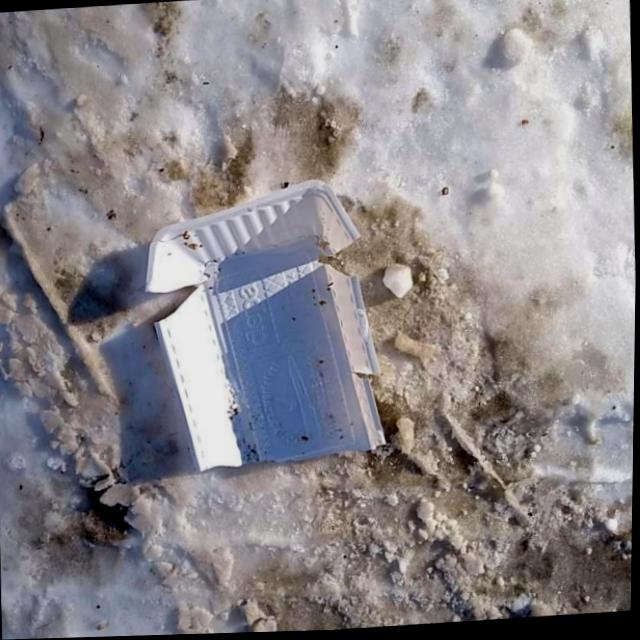Plastic: (138, 174, 396, 479)
